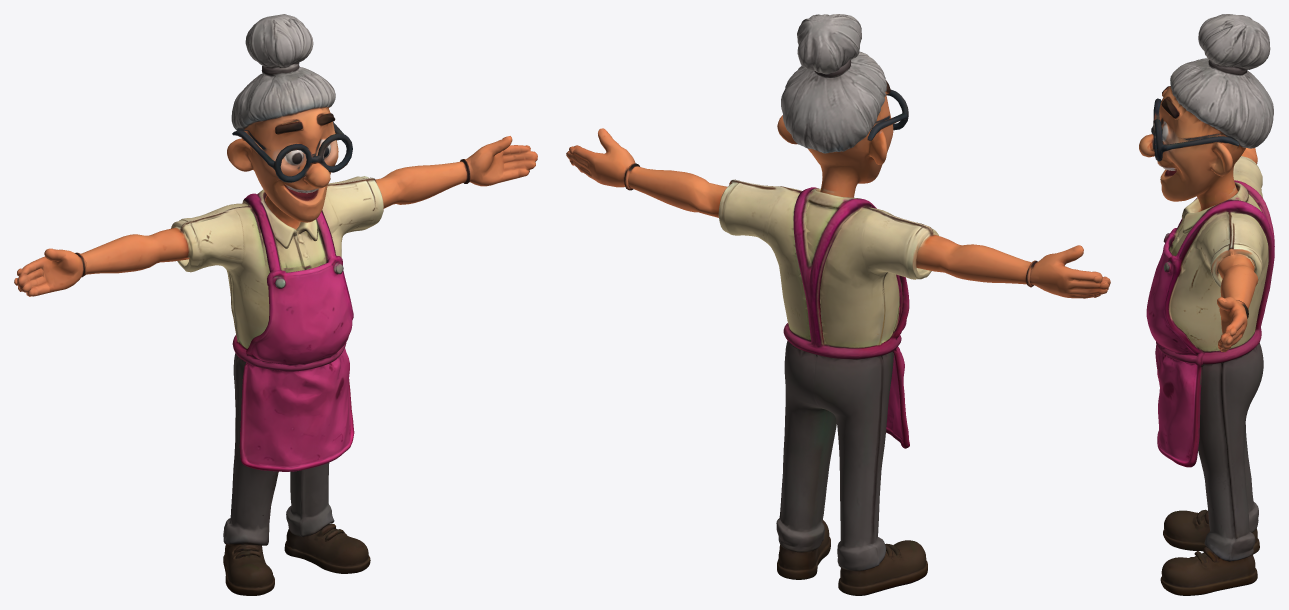
The model's file is dot.glb.
3 views of the same model, side by side, from view 1: azimuth 30°, elevation 25°; view 2: azimuth 150°, elevation 25°; view 3: azimuth 270°, elevation 25° (orthographic). The views are drawn at different scales.
Parts seen in each view (by area): view 1: tripo_node_a98aa9cf-518f-446e-869c-1ced0a26e29e; view 2: tripo_node_a98aa9cf-518f-446e-869c-1ced0a26e29e; view 3: tripo_node_a98aa9cf-518f-446e-869c-1ced0a26e29e.
Part boxes in pixels (x1,y1,x2,y2): tripo_node_a98aa9cf-518f-446e-869c-1ced0a26e29e: (14,14,537,595); tripo_node_a98aa9cf-518f-446e-869c-1ced0a26e29e: (566,14,1110,595); tripo_node_a98aa9cf-518f-446e-869c-1ced0a26e29e: (1139,14,1274,595).
Size of the model in its own units: 0.9837 by 0.9744 by 0.2187.
Materials: 1 (1 with a texture image).
